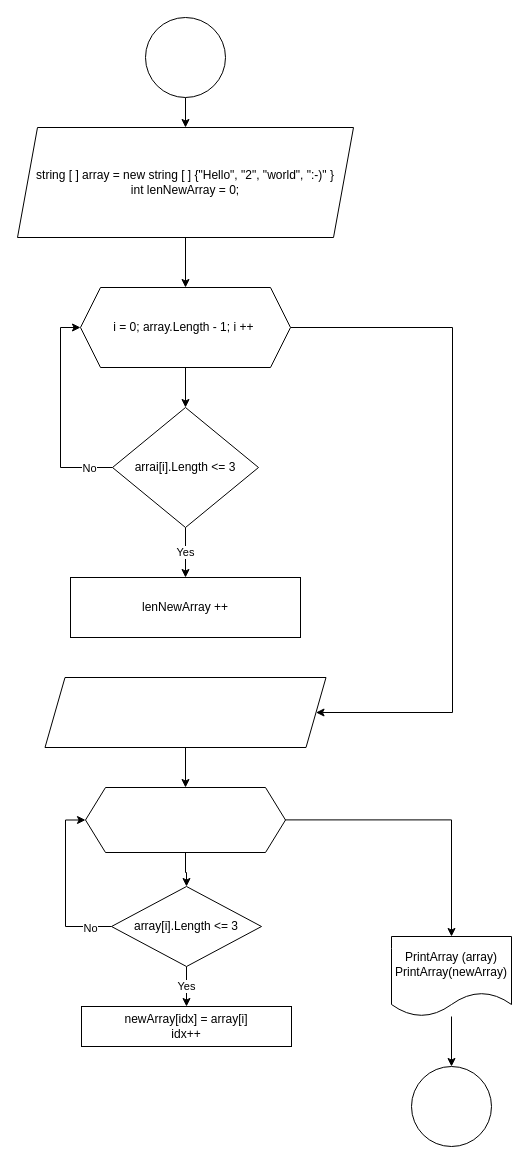
Some shapes in this 529 by 1164 pixel diagram are drawn without their labels. Here are the shapes that lost their labels. From the top down, the centre of each, then its label:
At [185,57]: "start".
At [185,712]: "string [ ] newArray = new string [lenNewArray] int ind = 0;".
At [185,819]: "i = 0; array.Length -1; i ++".
At [451,1106]: "end".
